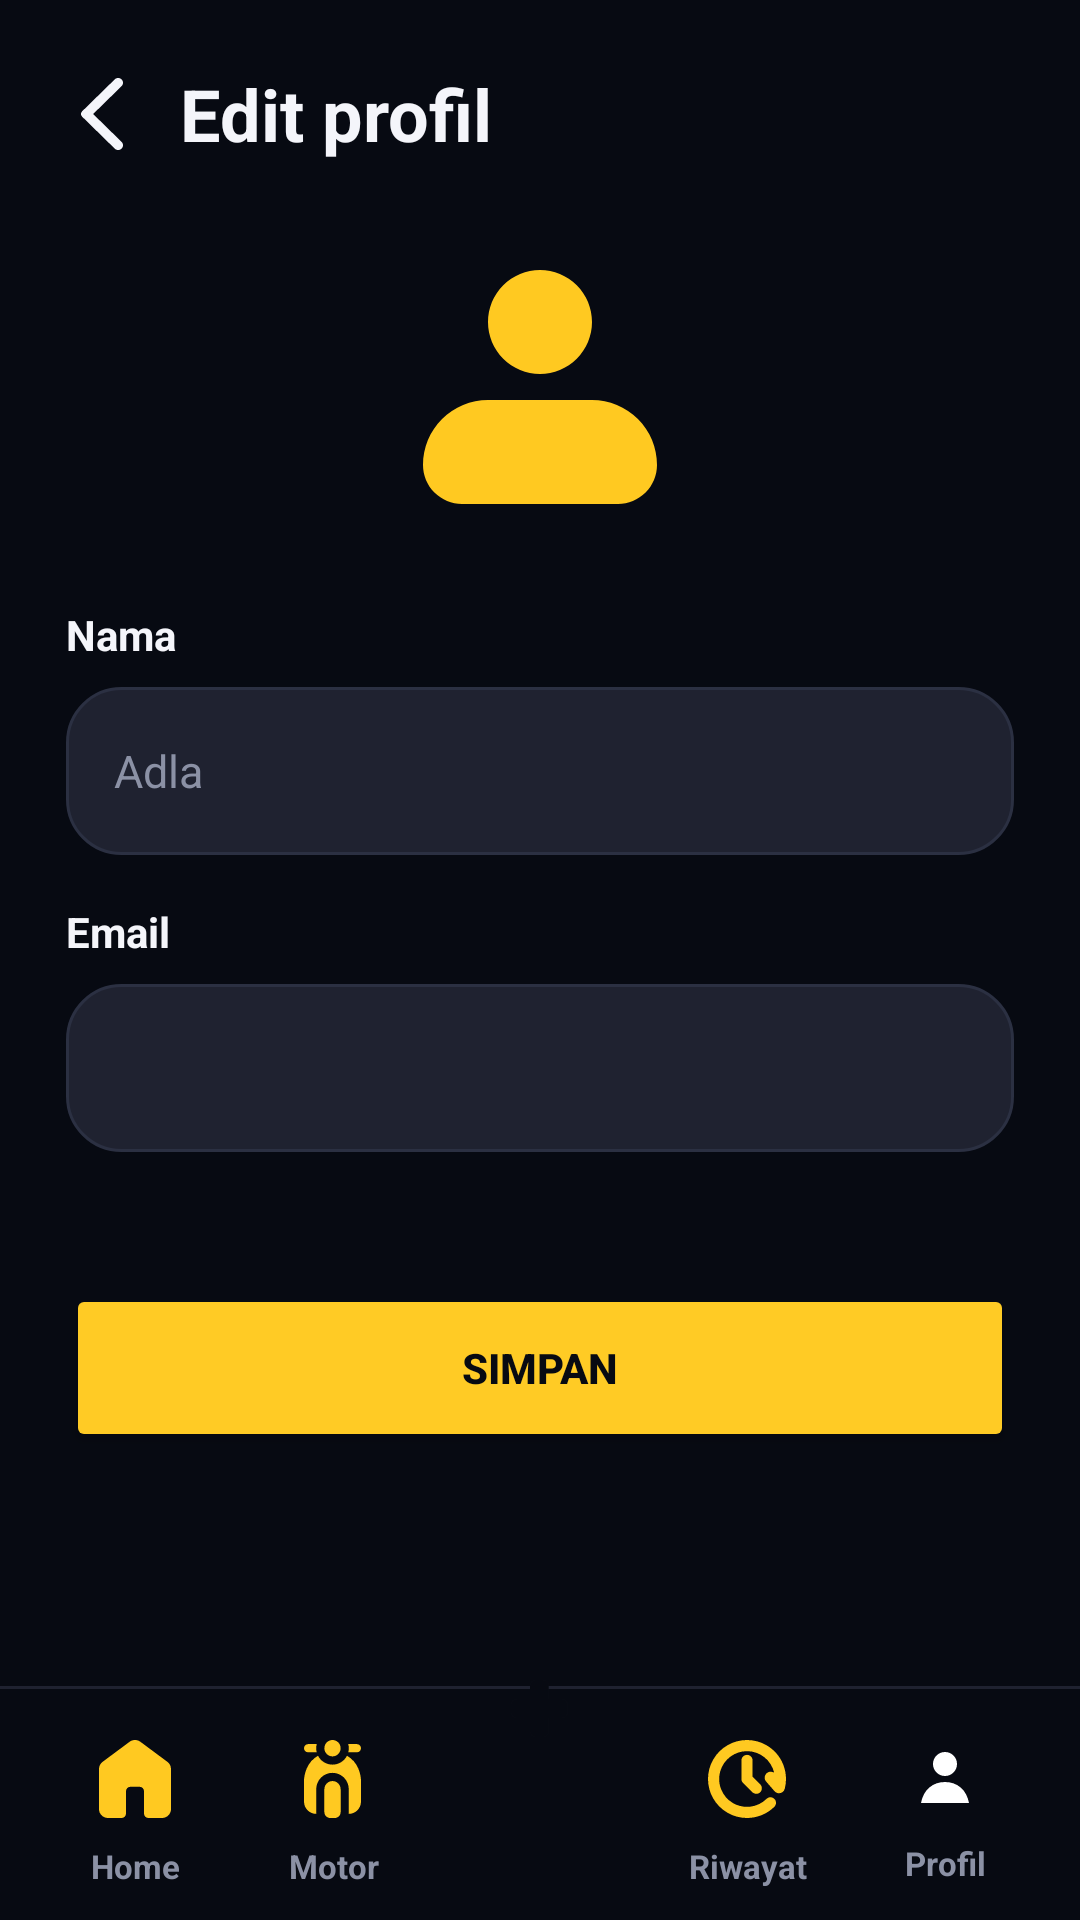

Where icons sit on this 1080×1920 app screen, as (x1, y1, x2, y2):
Kembali: (81, 78, 123, 150)
user: (423, 270, 657, 504)
